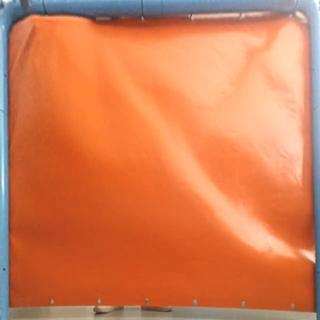Hit-hRxx: (29, 19, 41, 32)
